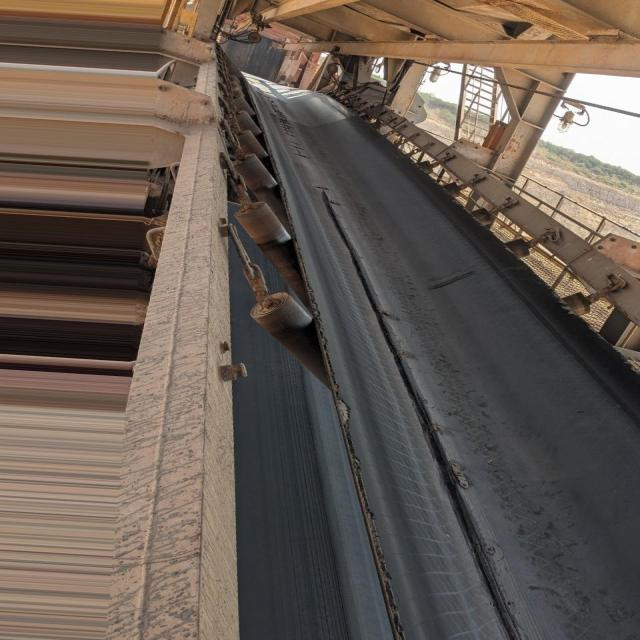Roller: (253, 293, 333, 398), (229, 207, 304, 300)
Tear: (329, 193, 524, 640)
